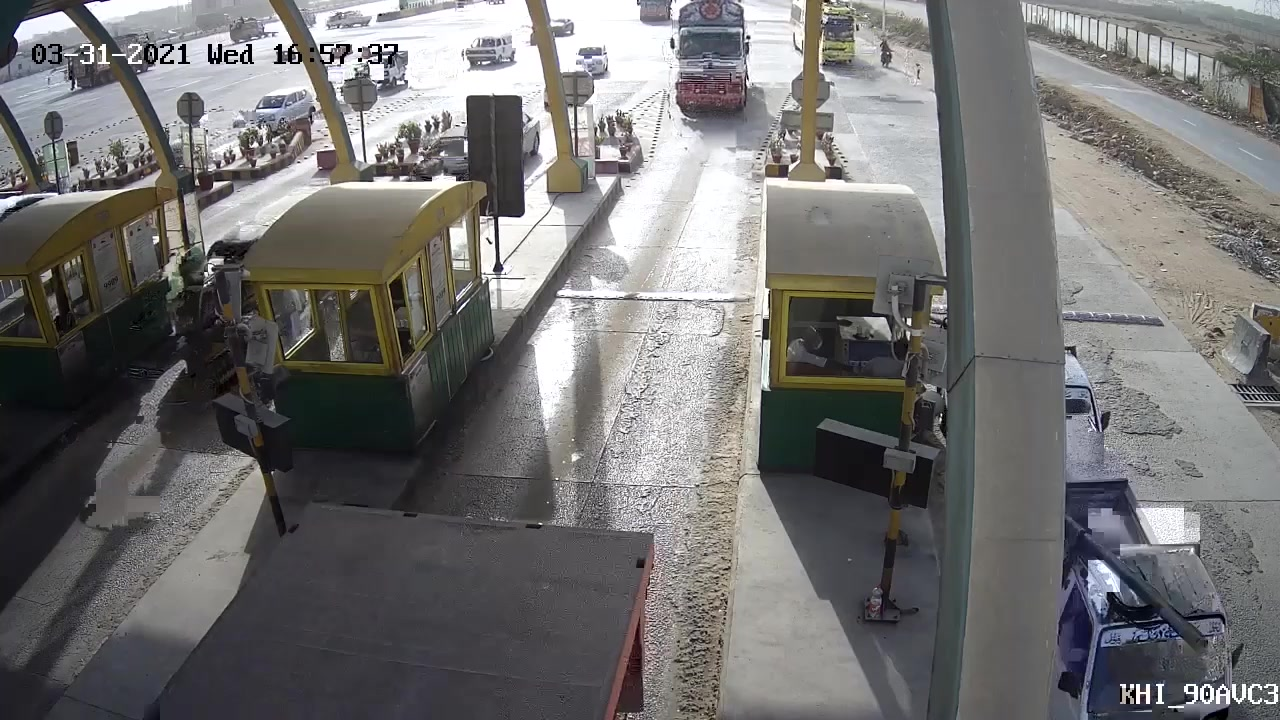F5: (670, 1, 760, 111)
